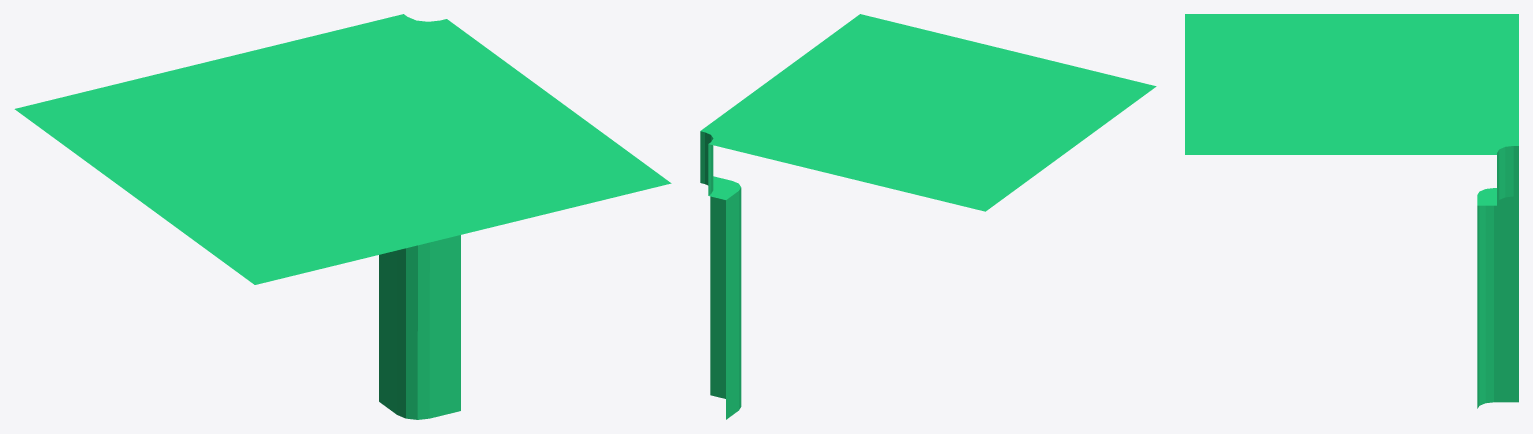
Rendered from Block_Top_Corner_Inner.fbx.
3 views of the same model, side by side, from view 1: azimuth 30°, elevation 25°; view 2: azimuth 150°, elevation 25°; view 3: azimuth 270°, elevation 25° (orthographic). The views are drawn at different scales.
Parts seen in each view (by area): view 1: Block_Top_Straight_Inner; view 2: Block_Top_Straight_Inner; view 3: Block_Top_Straight_Inner.
Boxes of the visible parts, x1,y1,x2,y2 form: Block_Top_Straight_Inner: (14, 14, 671, 419); Block_Top_Straight_Inner: (700, 14, 1156, 419); Block_Top_Straight_Inner: (1185, 14, 1518, 408).
Size of the model in its own units: 200 by 175 by 200.
